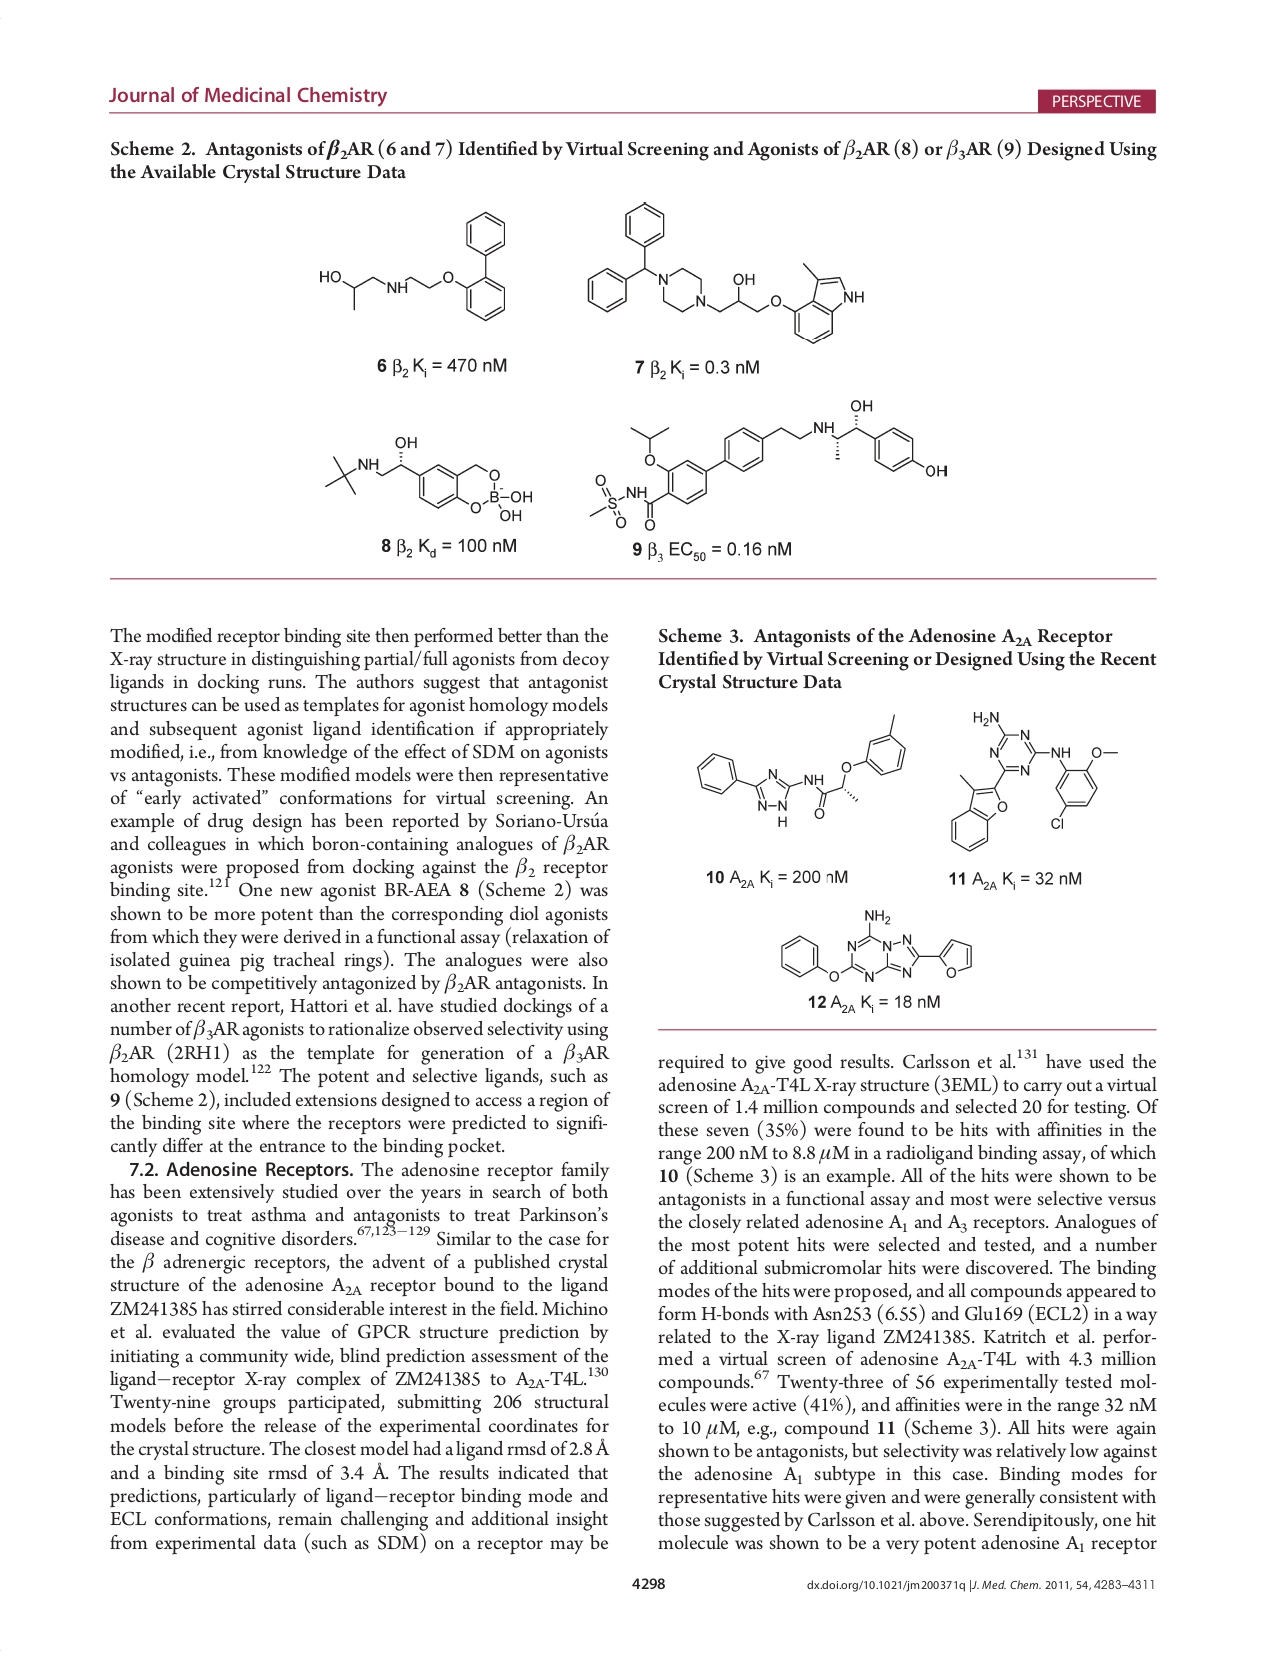exist_molecular: (585, 394, 949, 535), (584, 199, 864, 346), (693, 710, 910, 831), (946, 707, 1118, 855), (316, 207, 512, 330), (320, 431, 535, 523), (777, 906, 976, 985)
